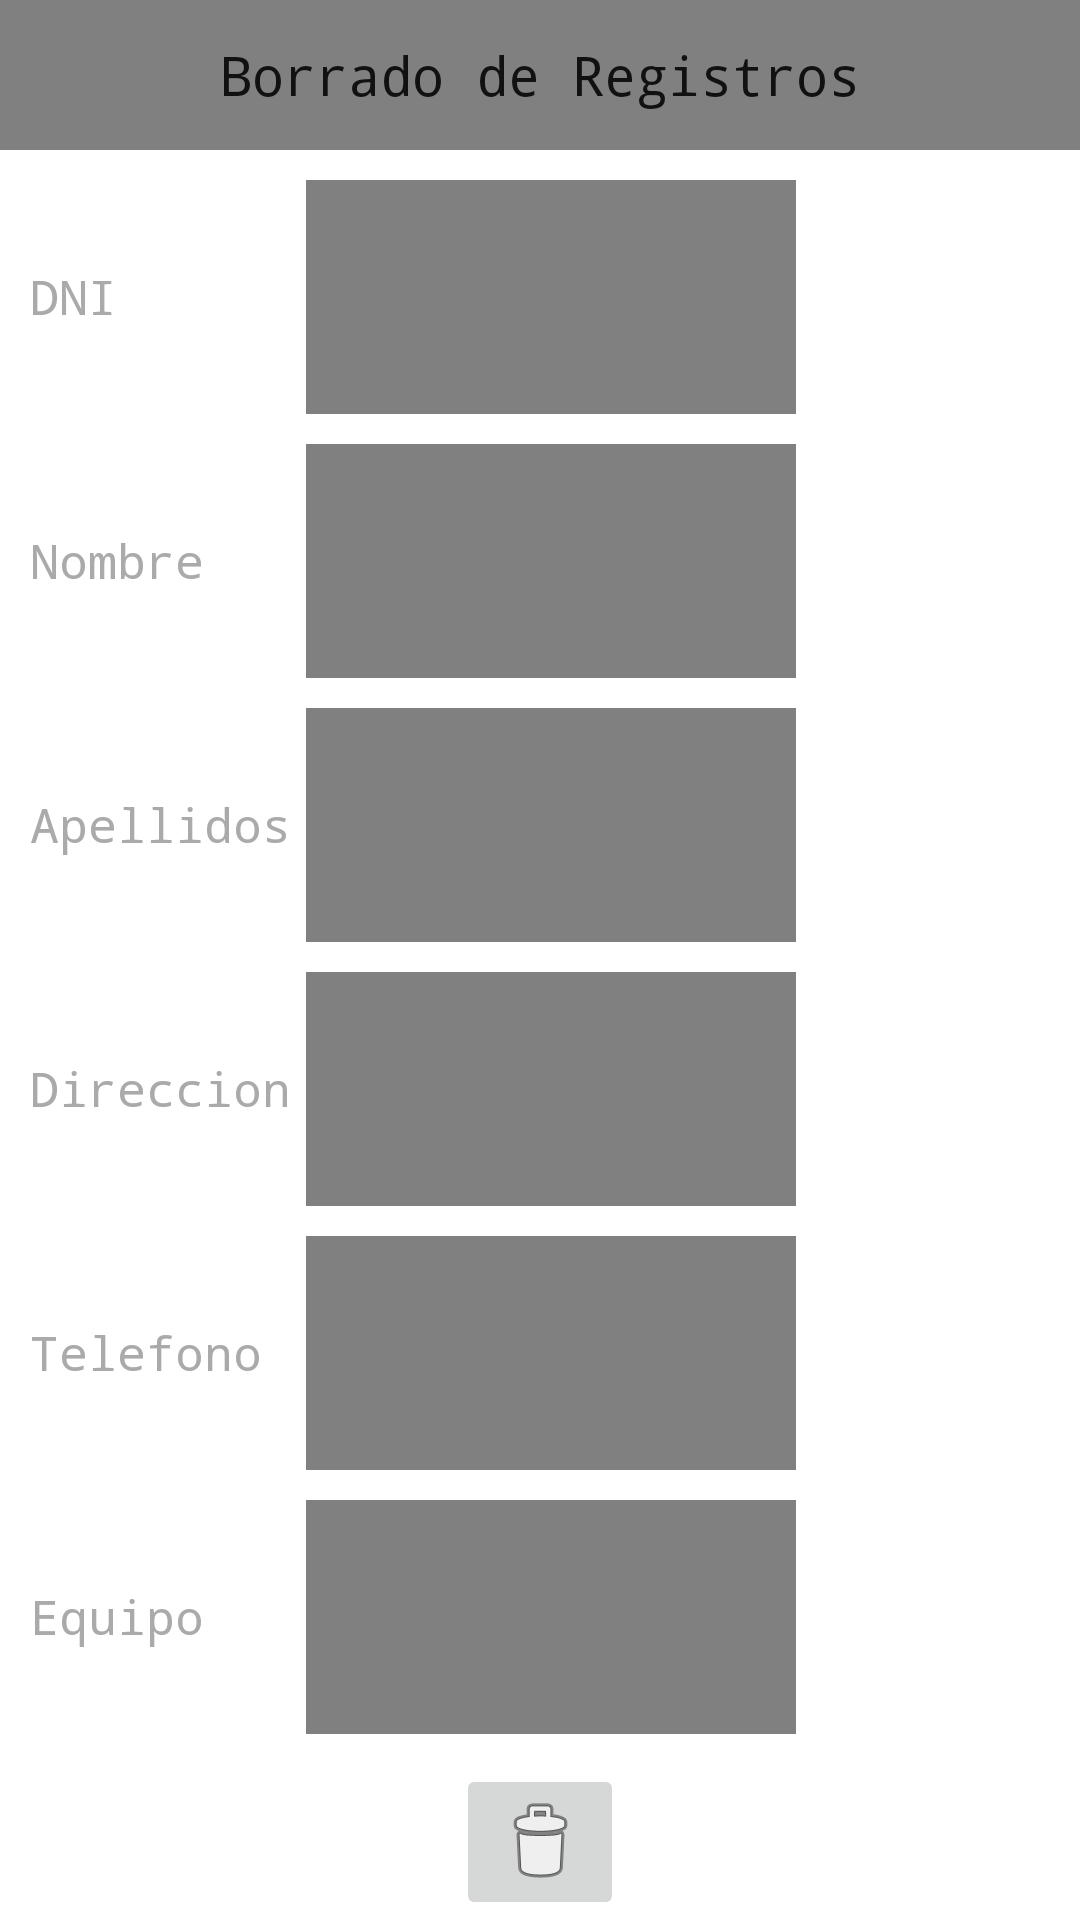

Screen size 1080px×1920px. Icon name, then its box in pixels as (x1, y1, x2, y2):
delete: (468, 1782, 612, 1902)
